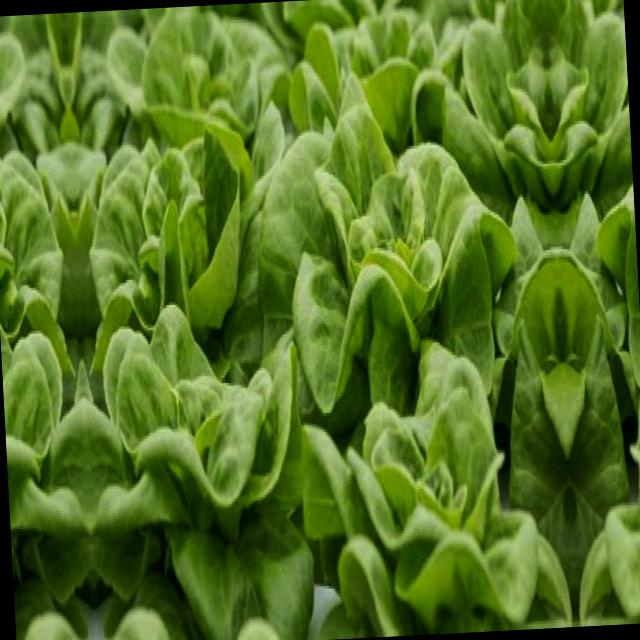healthy: (79, 297, 319, 640), (303, 344, 553, 640), (282, 140, 510, 414), (70, 127, 264, 383), (67, 1, 290, 154), (0, 308, 97, 640), (423, 0, 554, 211), (0, 136, 83, 387), (543, 0, 634, 204), (584, 339, 640, 626), (0, 13, 67, 159), (604, 132, 640, 397)
